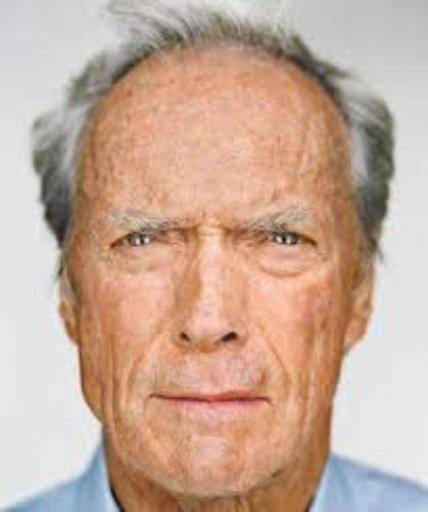left_eye: (261, 233, 320, 258)
left_lip_corner: (252, 387, 283, 411)
right_eye: (111, 232, 173, 258)
right_lip_corner: (138, 383, 176, 409)
